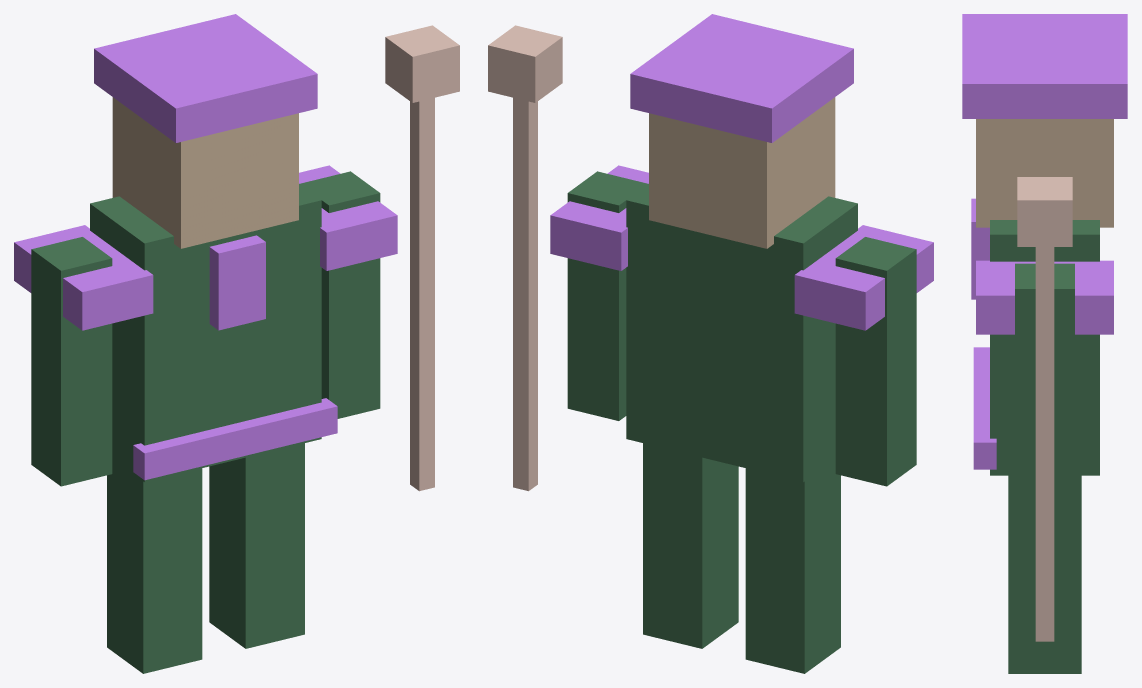
File: 08_eryk_starfall_medic_at_mycelial.glb
The picture shows the model from 3 angles, left to right: view 1: azimuth 30°, elevation 25°; view 2: azimuth 150°, elevation 25°; view 3: azimuth 270°, elevation 25°; orthographic projection.
Visible parts, largest first — view 1: Eryk Starfall, Medic at Mycelial; view 2: Eryk Starfall, Medic at Mycelial; view 3: Eryk Starfall, Medic at Mycelial.
Part boxes in pixels (bbox=[...]): Eryk Starfall, Medic at Mycelial: bbox=[14, 14, 459, 673]; Eryk Starfall, Medic at Mycelial: bbox=[488, 14, 933, 673]; Eryk Starfall, Medic at Mycelial: bbox=[962, 14, 1127, 673].
Size of the model in its own units: 1.09 by 1.51 by 0.3879.
